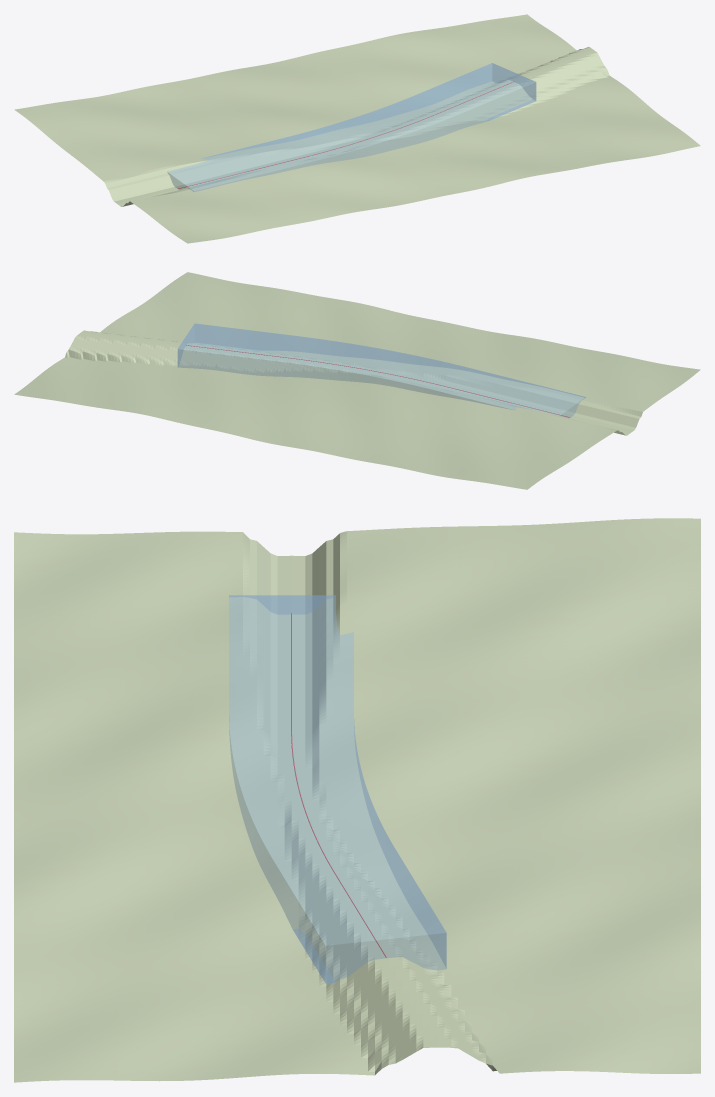
3 views of the same model, one above another, from view 1: azimuth 30°, elevation 25°; view 2: azimuth 150°, elevation 25°; view 3: azimuth 270°, elevation 25° (orthographic). The views are drawn at different scales.
Parts seen in each view (by area): view 1: 地形|現況地形 (参考・土工後の地表面), 概略形状|土工範囲ボックス; view 2: 地形|現況地形 (参考・土工後の地表面), 概略形状|土工範囲ボックス, 線形|道路中心線形; view 3: 地形|現況地形 (参考・土工後の地表面), 概略形状|土工範囲ボックス.
Part boxes in pixels (x1,y1,x2,y2): 地形|現況地形 (参考・土工後の地表面): (14,14,700,243); 概略形状|土工範囲ボックス: (167,63,536,191); 地形|現況地形 (参考・土工後の地表面): (14,272,700,489); 概略形状|土工範囲ボックス: (177,323,585,417); 線形|道路中心線形: (186,345,569,417); 地形|現況地形 (参考・土工後の地表面): (14,518,700,1082); 概略形状|土工範囲ボックス: (229,595,446,983).
Size of the model in its own units: 338 by 21.85 by 198.
